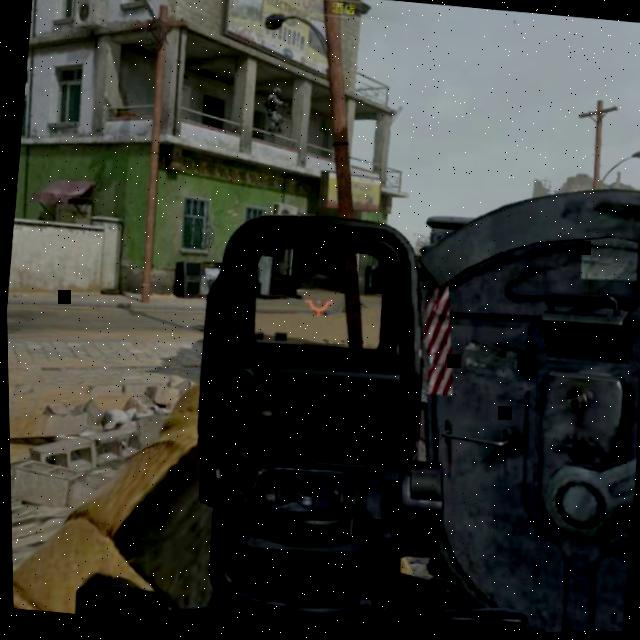MW2_body: (263, 86, 291, 135)
